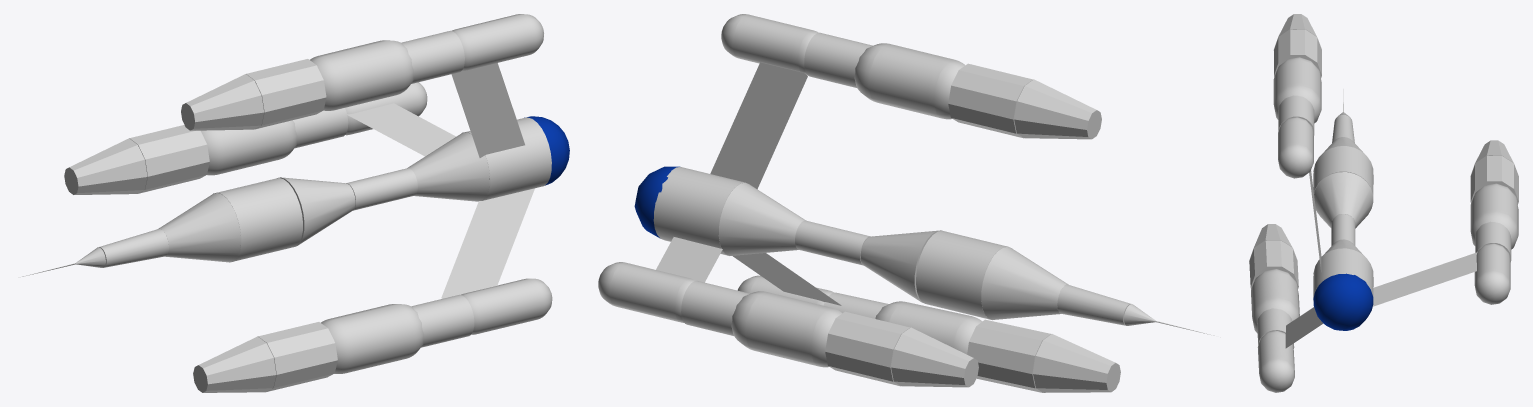
File: ship1.dae
The picture shows the model from 3 angles, left to right: view 1: azimuth 30°, elevation 25°; view 2: azimuth 150°, elevation 25°; view 3: azimuth 270°, elevation 25°; orthographic projection. The views are drawn at different scales.
Parts seen in each view (by area): view 1: Merged_Meshes, Sphere; view 2: Merged_Meshes, Sphere; view 3: Merged_Meshes, Sphere.
Part boxes in pixels (bbox=[...]): Merged_Meshes: bbox=[22, 14, 552, 392]; Sphere: bbox=[524, 116, 569, 185]; Merged_Meshes: bbox=[598, 14, 1214, 392]; Sphere: bbox=[634, 166, 679, 238]; Merged_Meshes: bbox=[1249, 14, 1518, 392]; Sphere: bbox=[1313, 273, 1373, 330].
Bounding box in the file's own units: 8.9 × 4.48 × 4.71.
